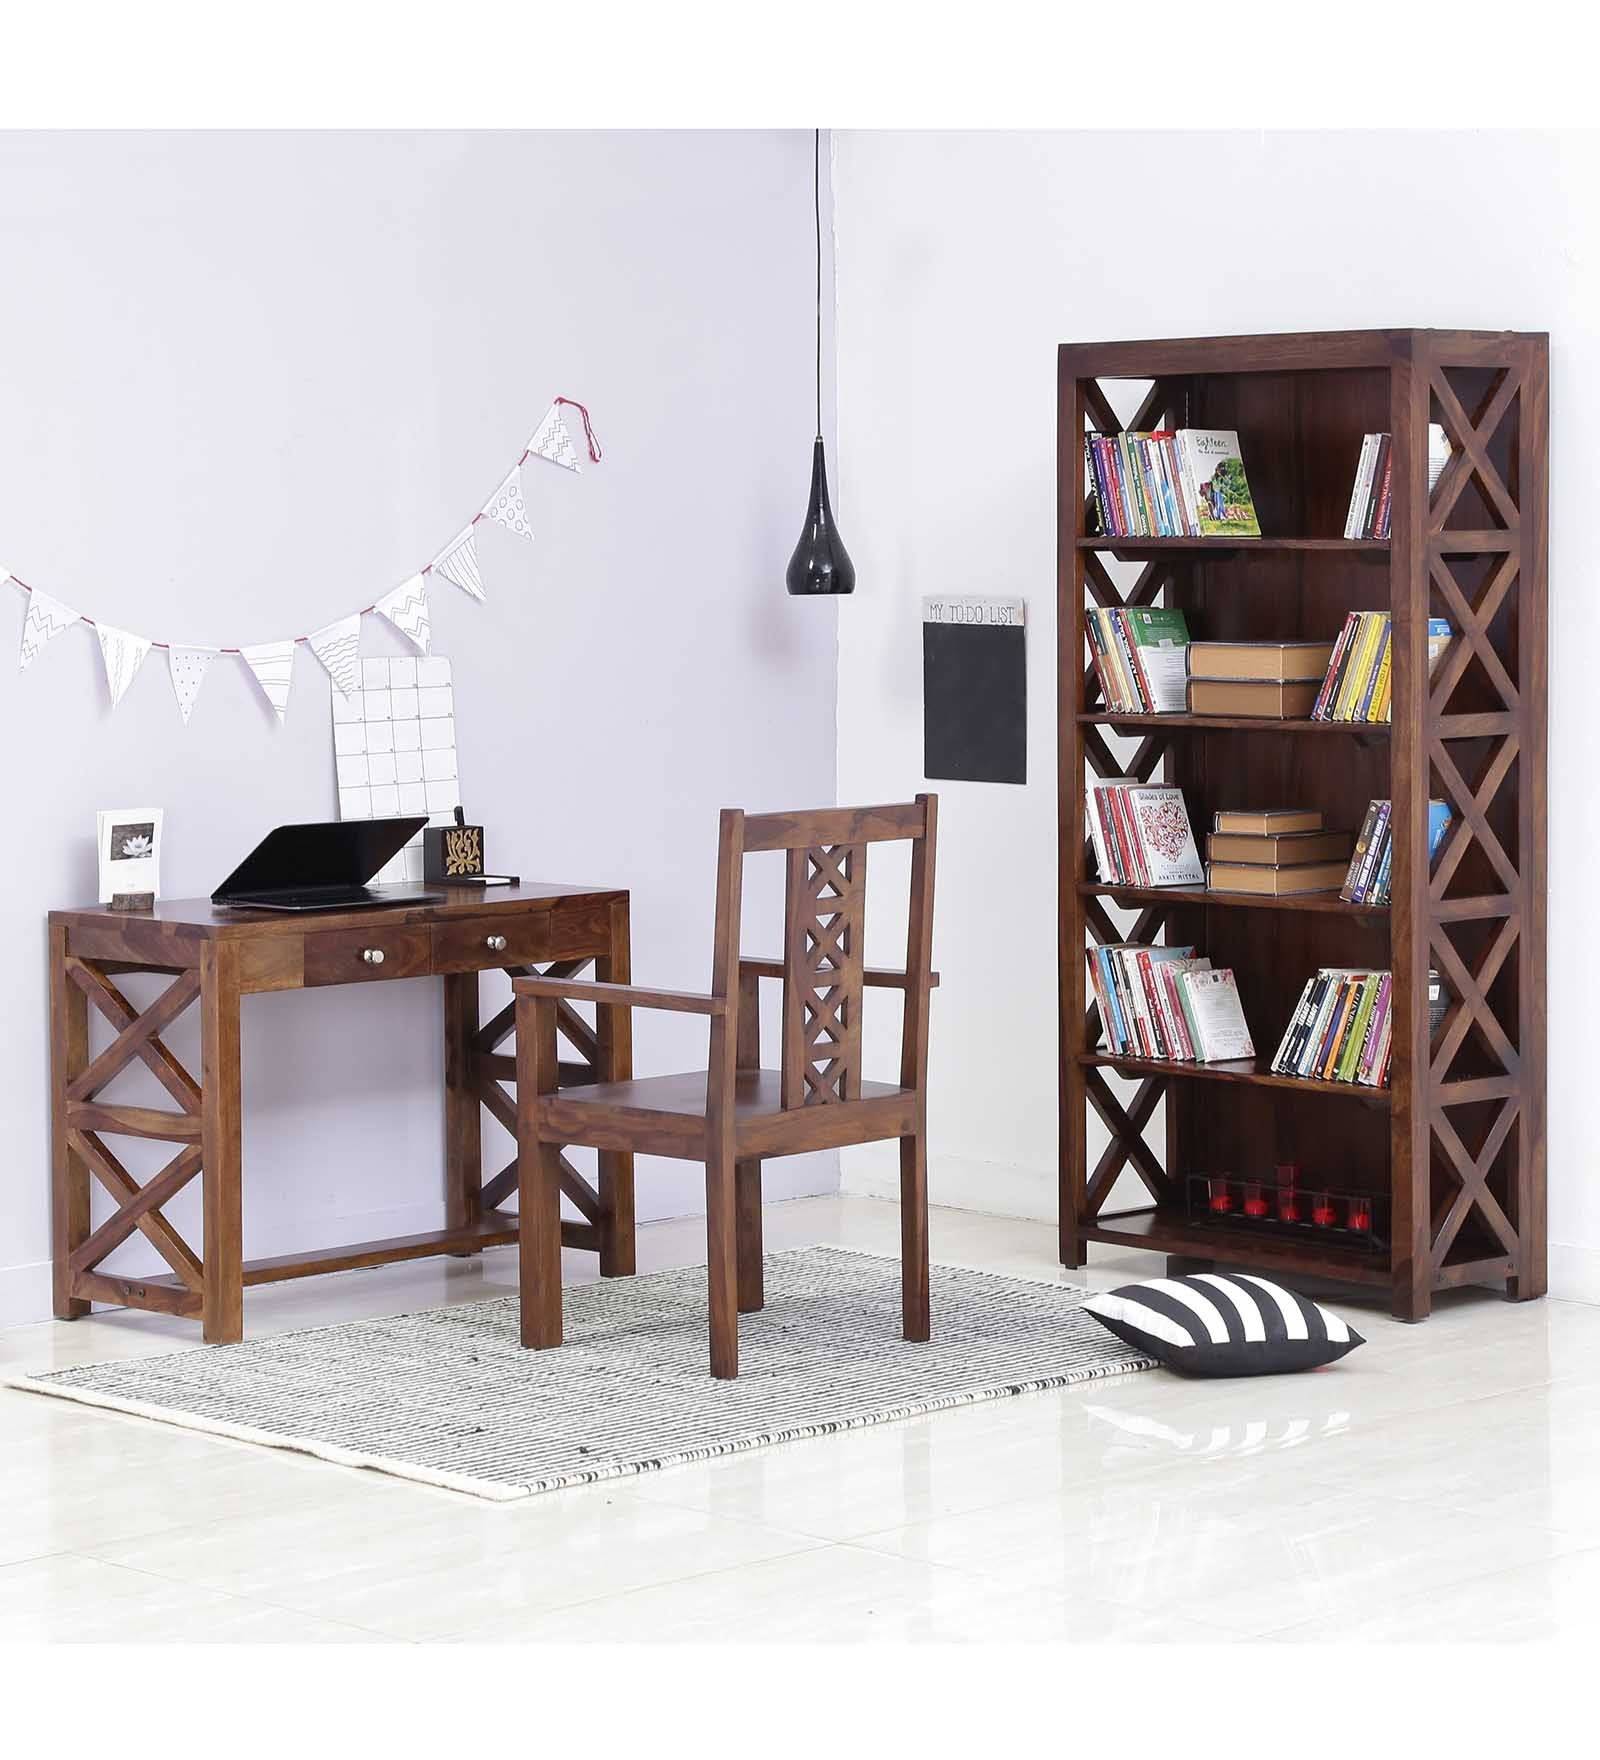Kryss Arm Chair in Provincial Teak Finish by Woodsworth: (513, 771, 975, 1400)
